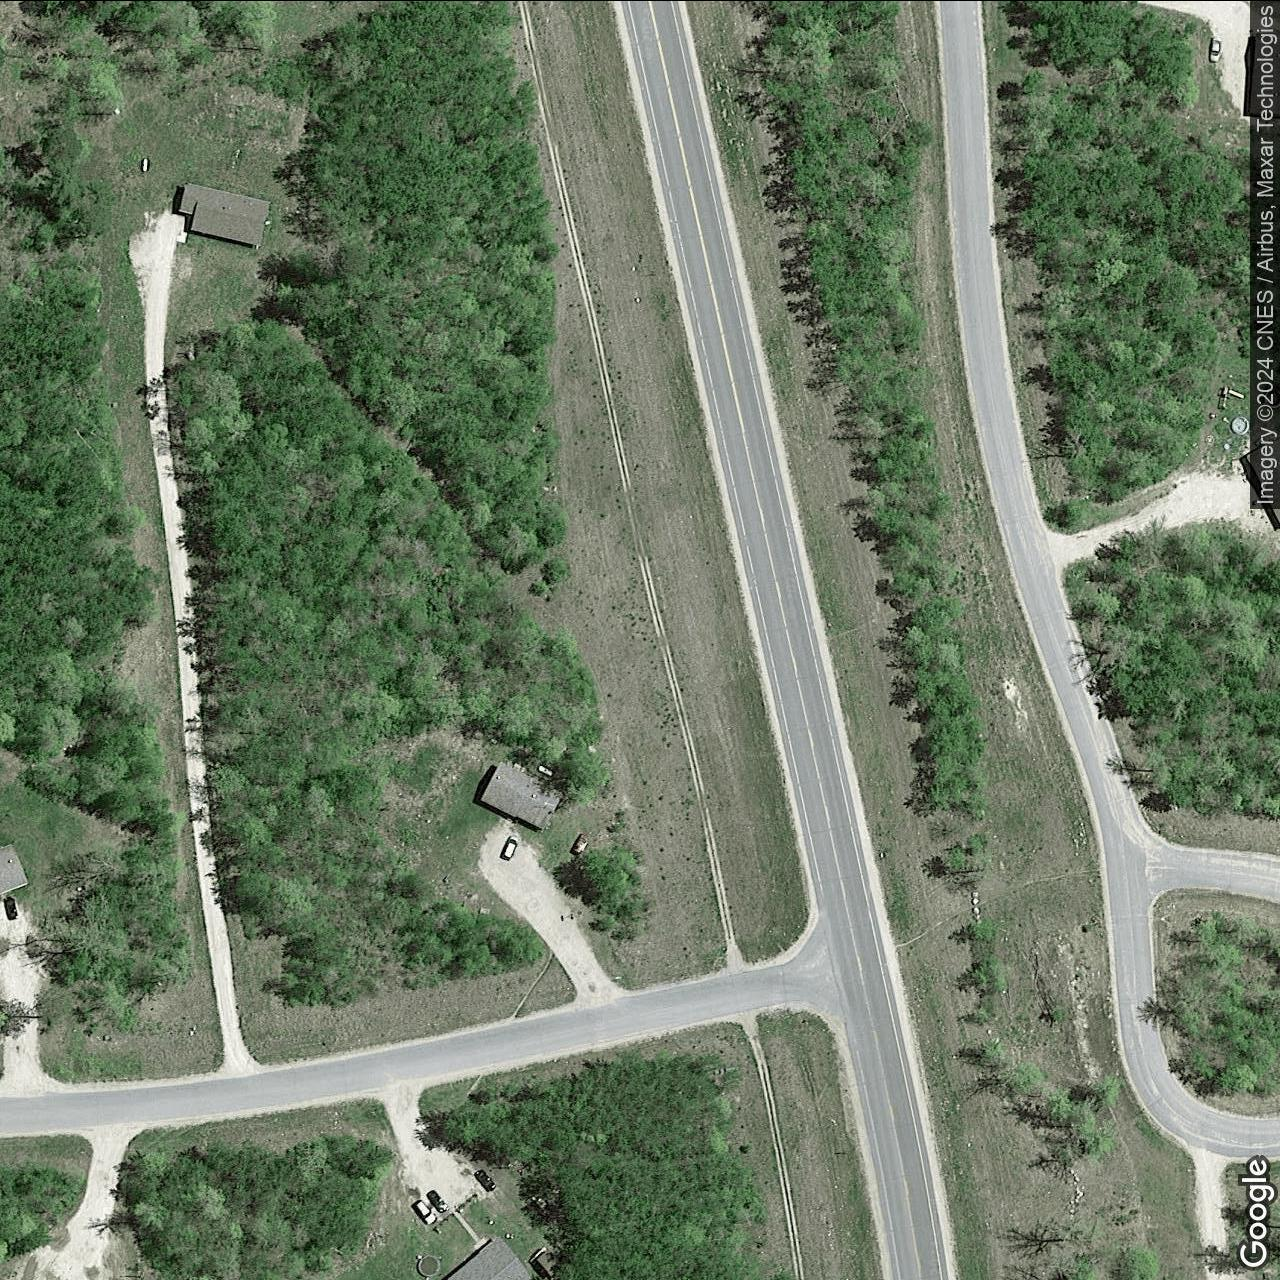House: (478, 757, 566, 833), (177, 179, 274, 246), (445, 1232, 535, 1280), (1245, 436, 1280, 525), (0, 840, 28, 893)
Propane: (533, 761, 556, 777), (138, 154, 150, 172)
